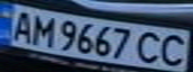6: (90, 24, 115, 57), (75, 20, 96, 55)
7: (109, 26, 136, 61)
9: (54, 18, 78, 52)
A: (6, 8, 39, 43)
C: (154, 32, 193, 68), (133, 29, 166, 65)
M: (27, 14, 57, 47)
